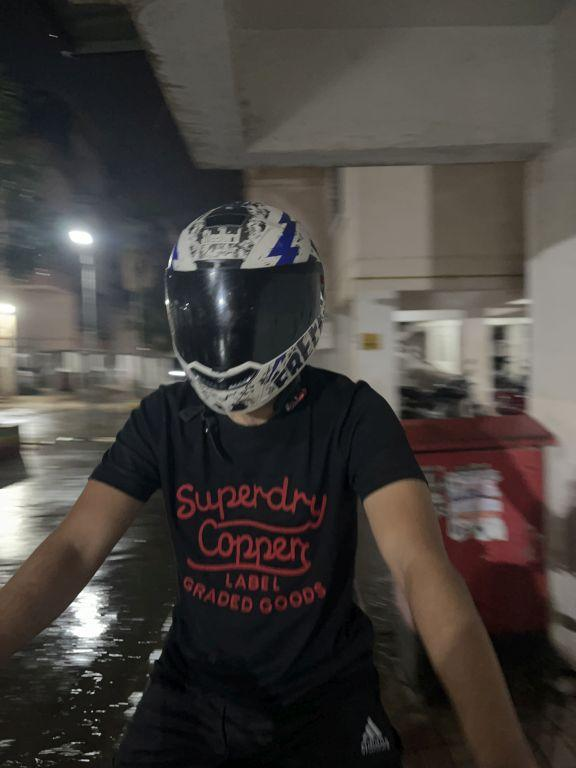helmet: (152, 189, 337, 434)
